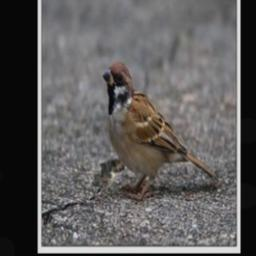Sparrow: (98, 56, 220, 203)
